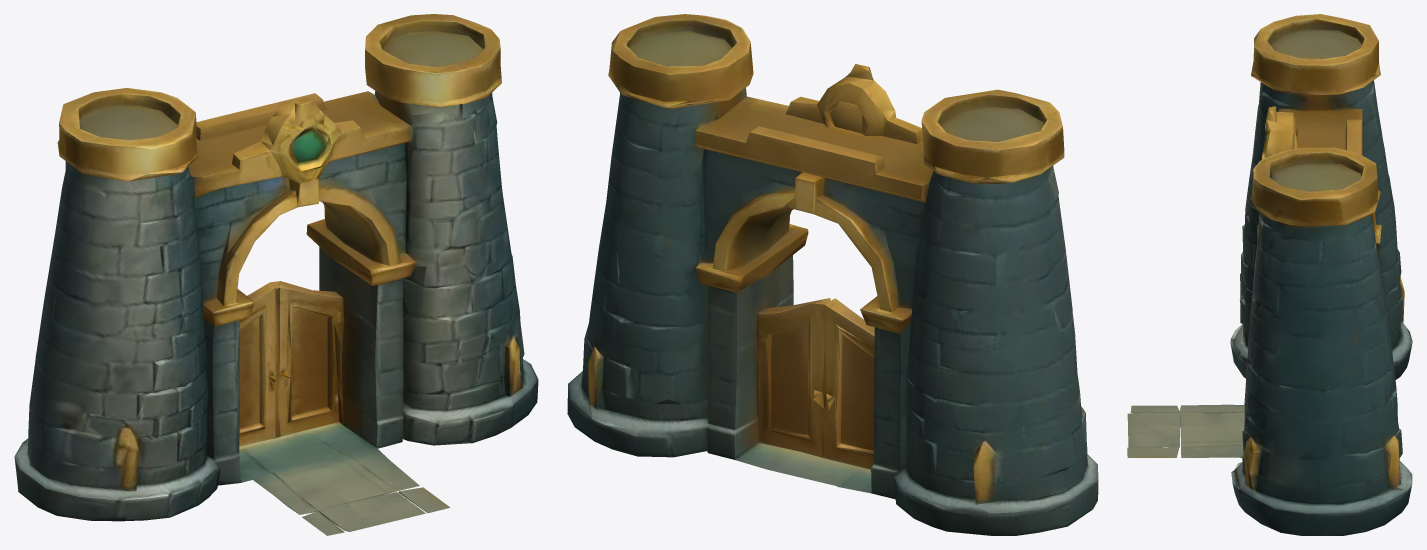
Rendered from skyFortressGate.glb.
3 views of the same model, side by side, from view 1: azimuth 30°, elevation 25°; view 2: azimuth 150°, elevation 25°; view 3: azimuth 270°, elevation 25° (orthographic). The views are drawn at different scales.
Parts seen in each view (by area): view 1: model; view 2: model; view 3: model.
Part boxes in pixels (x1,y1,x2,y2): model: (14, 14, 538, 535); model: (567, 14, 1098, 535); model: (1127, 14, 1412, 535).
Bounding box in the file's own units: 1.9 × 1.35 × 1.07.
Materials: 1 (1 with a texture image).
